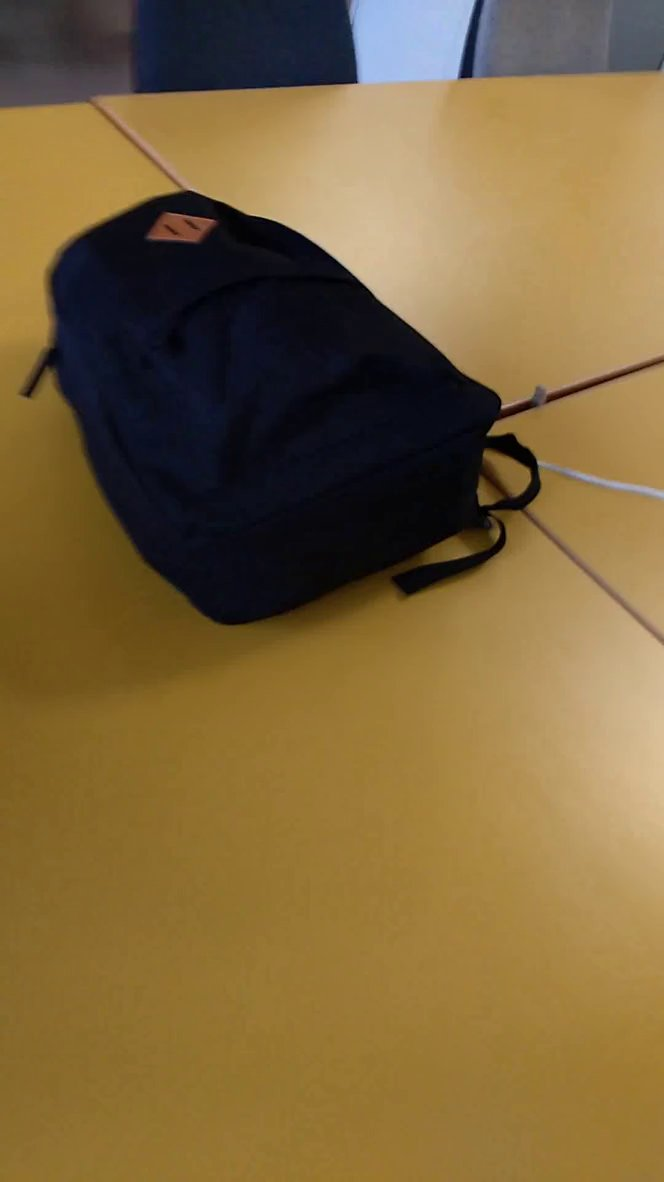bag: (10, 173, 553, 613)
